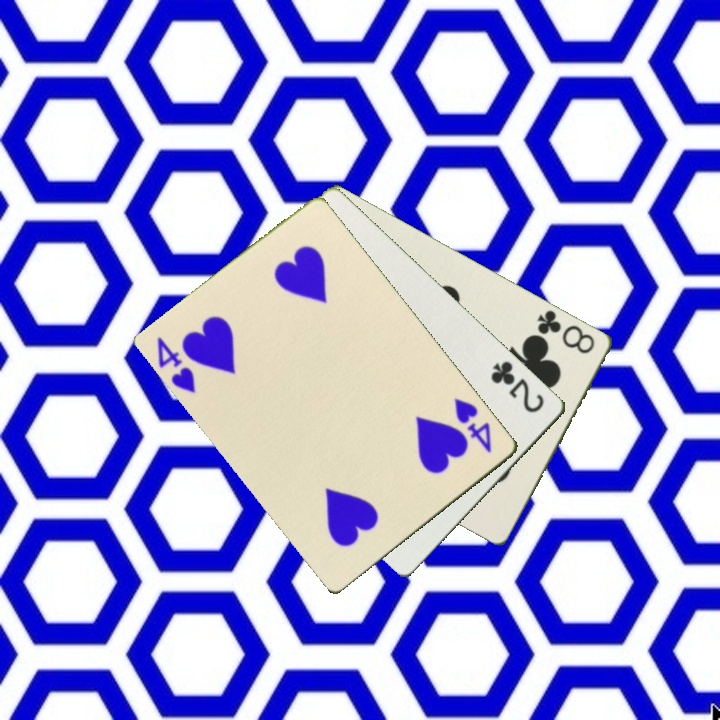2c: (488, 357, 548, 416)
4h: (154, 333, 200, 397), (451, 394, 496, 456)
8c: (534, 306, 599, 357)
